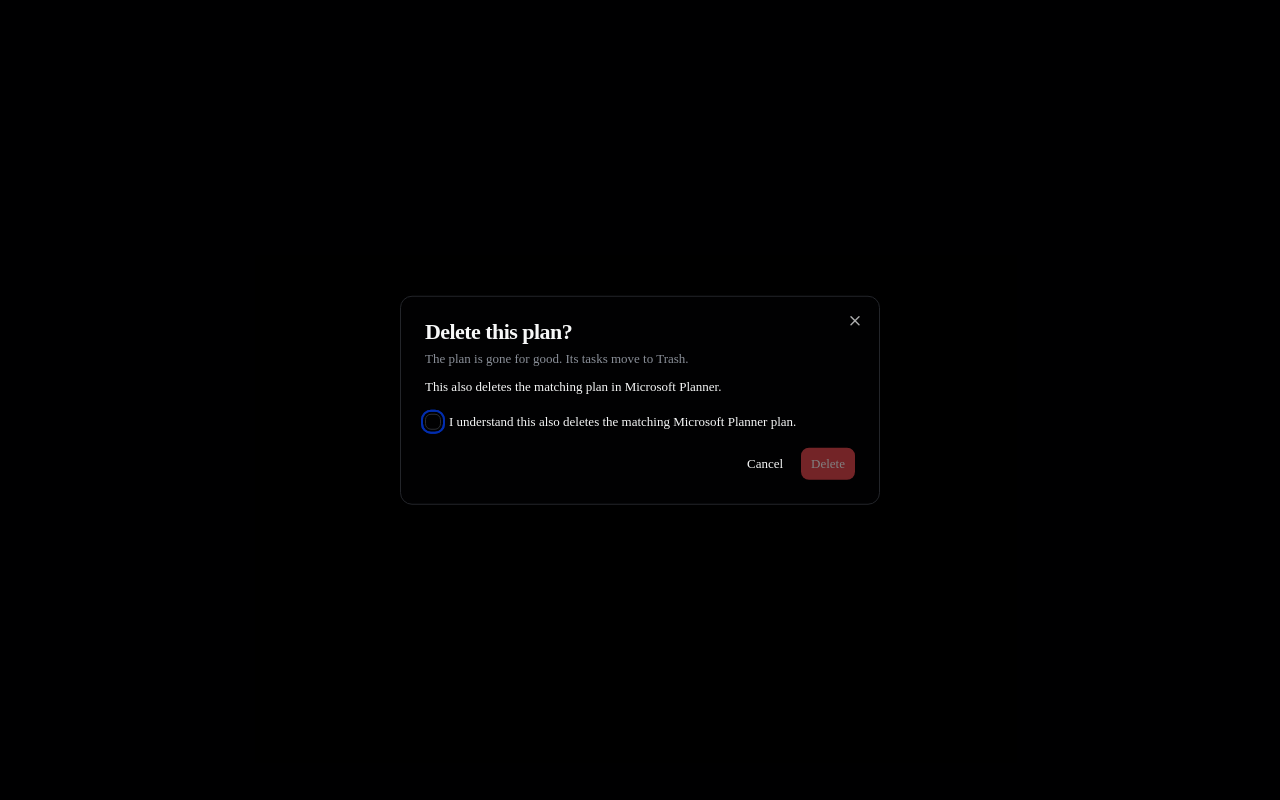
Scenario: ConfirmDeletePlanDialog › linked plan: shows M365 warning, checkbox visible, Delete disabled until checked
The width and height of the screenshot is (1280, 800).
Expected: the text "This also deletes the matching plan in Microsoft Planner." is shown, [425,378,721,393]
Expected: the button "Delete" is disabled, [801,447,855,479]
Click the checkbox named "I understand this also deletes the matching Microsoft Planner plan": (433, 422) [425,414,441,430]
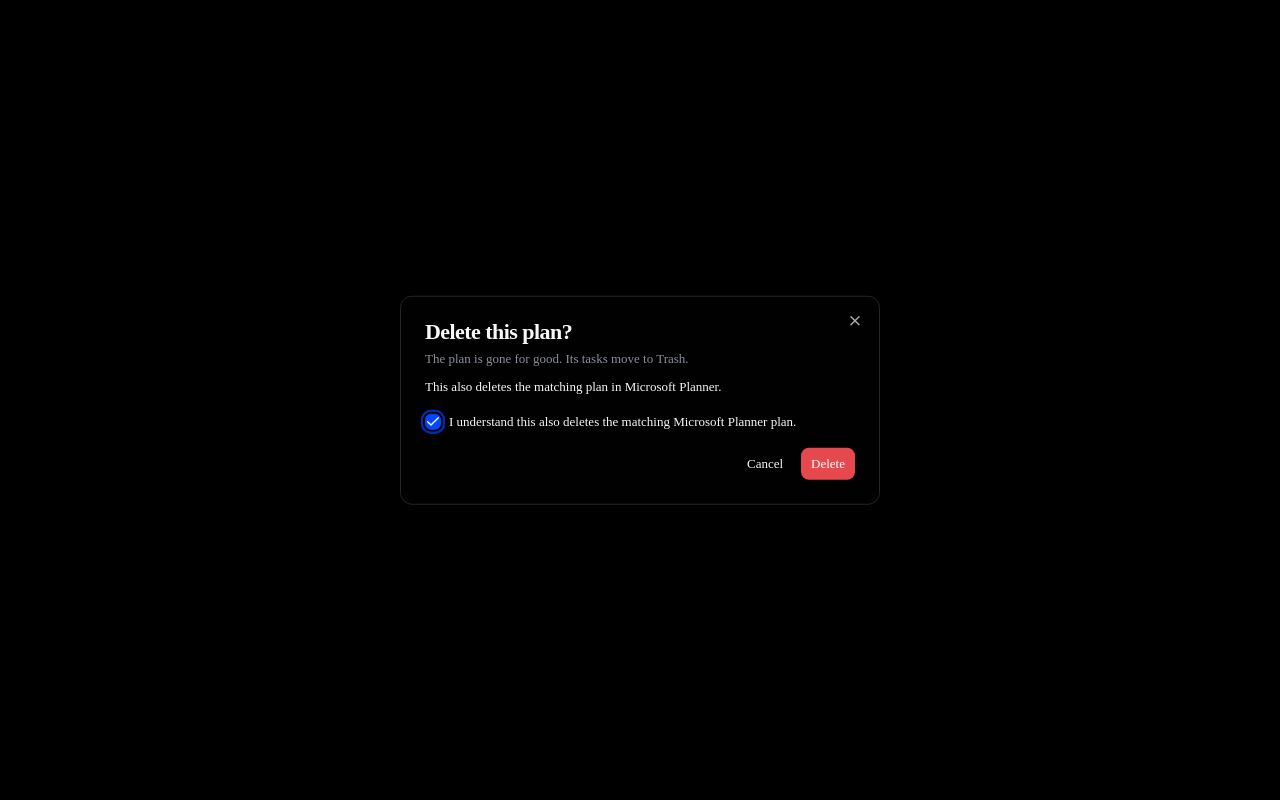
Now the button "Delete" is enabled, box [801,447,855,479]
